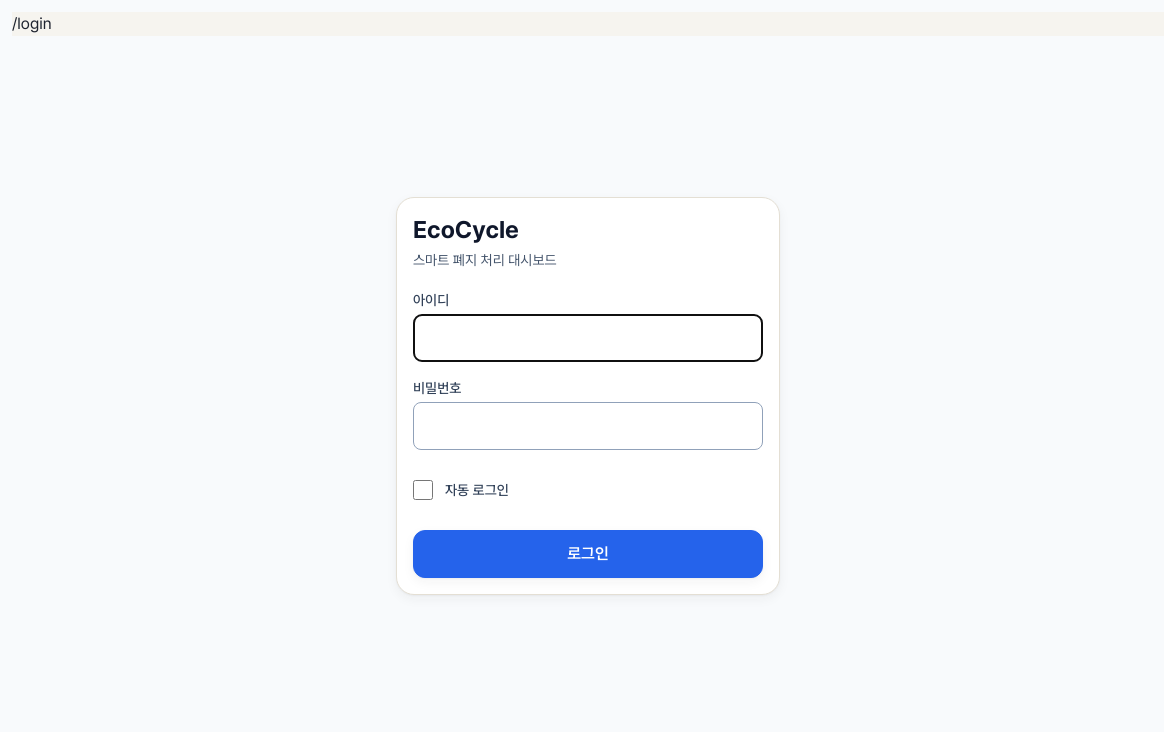
LoginPage › 틀린 비밀번호: 안내하고, 비밀번호는 지우고 아이디는 남기고, 비밀번호로 초점을 옮긴다
Type "admin" into the field labelled "아이디" at (588, 338), box x1=413 y1=314 x2=763 y2=362
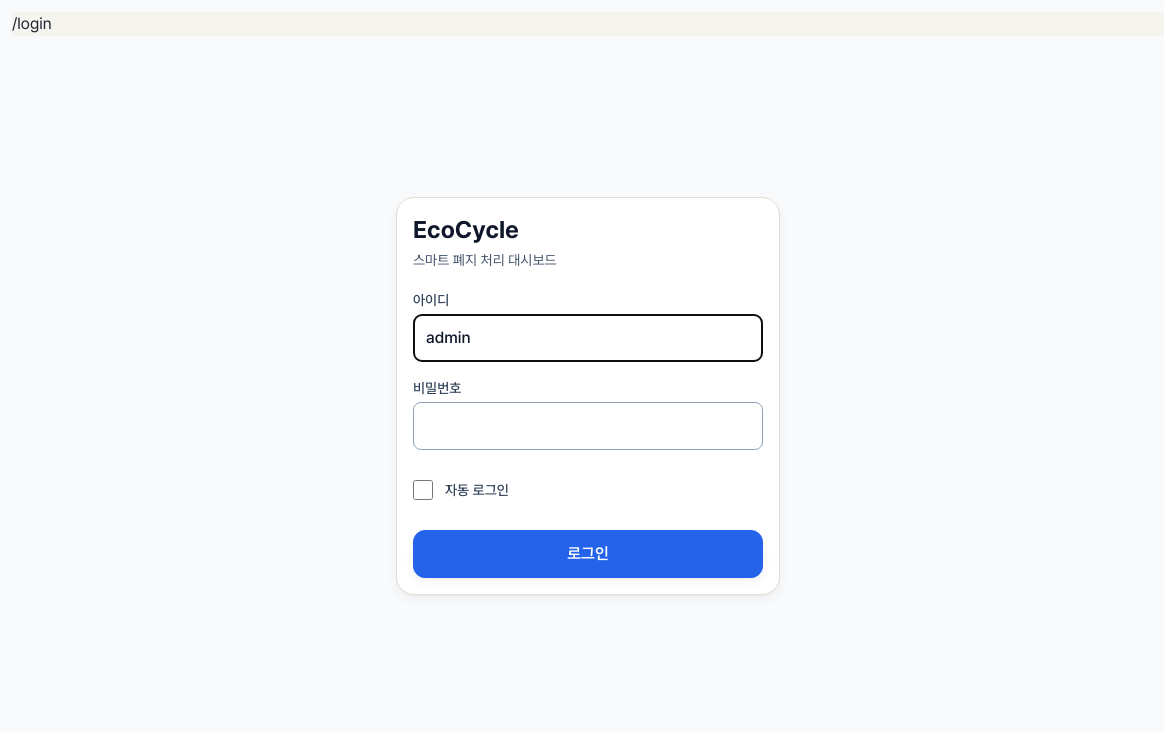
Type "wrong" into the password field labelled "비밀번호" at (588, 426), box x1=413 y1=402 x2=763 y2=450
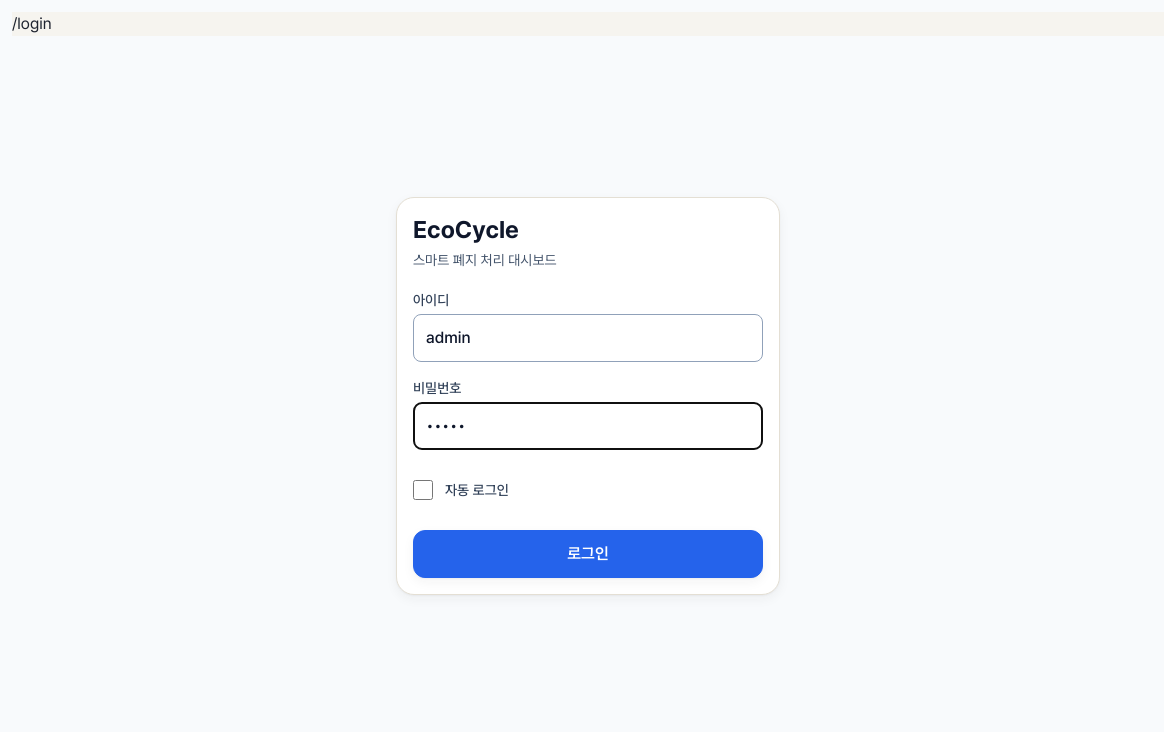
Click the button "로그인" at (588, 554), box x1=413 y1=530 x2=763 y2=578
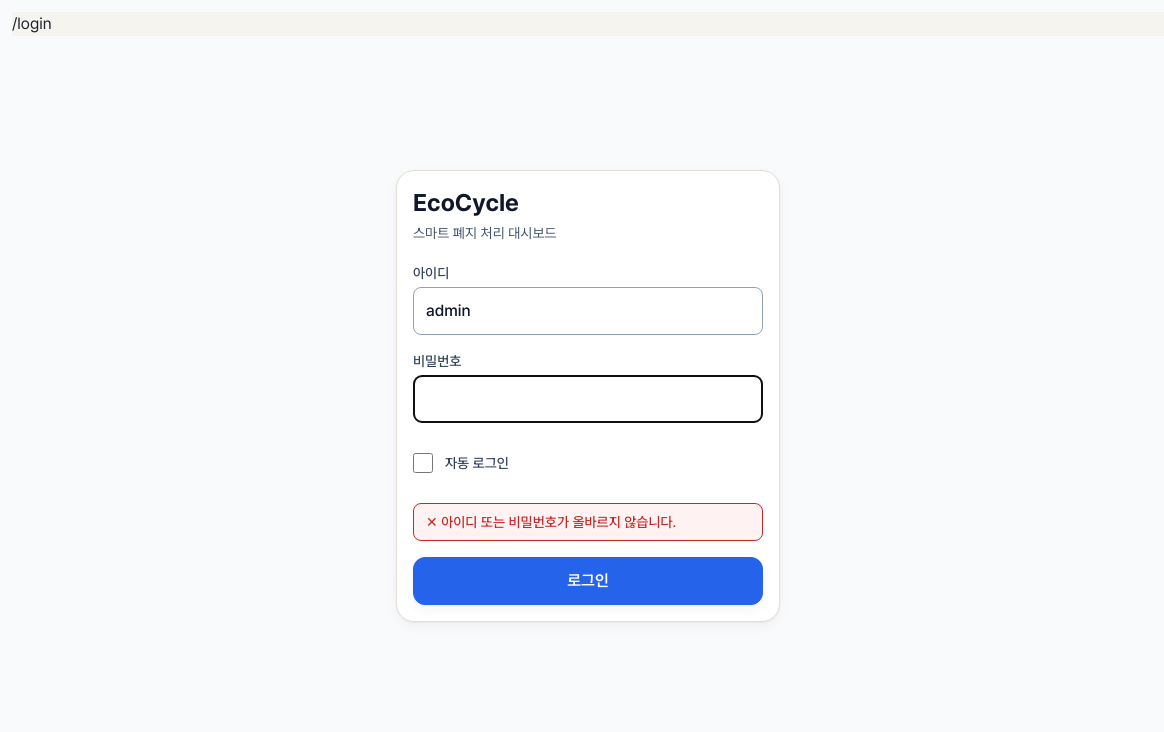
Check: the text with test id "where" reads "/login", box x1=12 y1=14 x2=52 y2=33
Check: the message shows "아이디 또는 비밀번호가 올바르지 않습니다.", box x1=441 y1=514 x2=676 y2=530
Check: the password field labelled "비밀번호" is empty, box x1=413 y1=375 x2=763 y2=423
